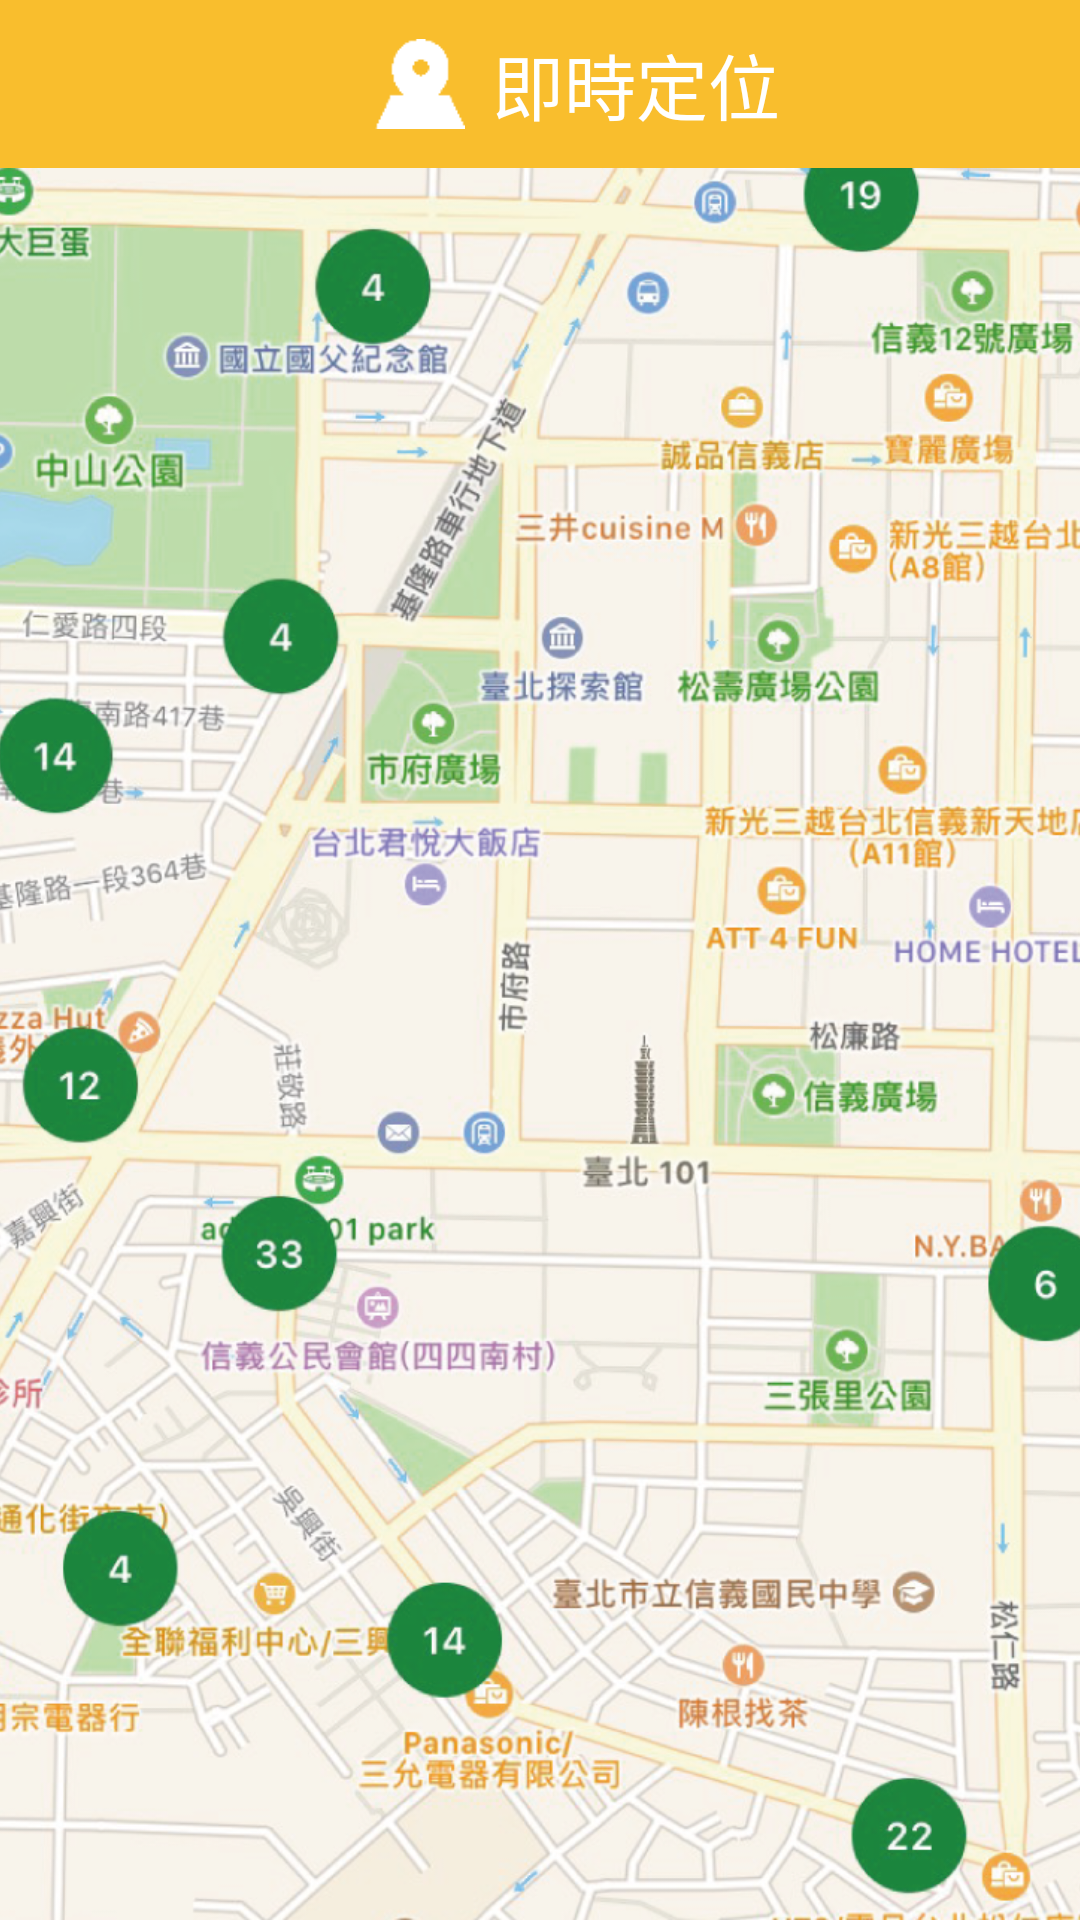

Icon bounding boxes for this 1080px×1920px phone screenshot, format (x1, y1, x2, y2):
sidebar buttons gps: (375, 39, 465, 129)
